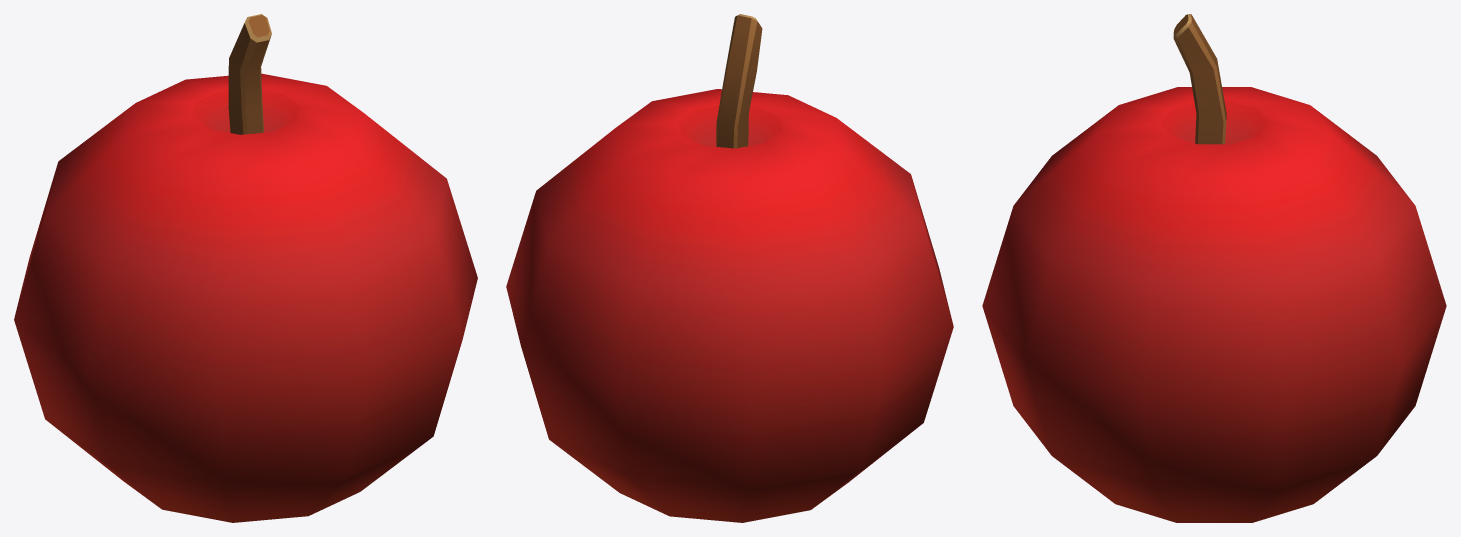
The model's file is Apple_1_A.glb.
The picture shows the model from 3 angles, left to right: view 1: azimuth 30°, elevation 25°; view 2: azimuth 150°, elevation 25°; view 3: azimuth 270°, elevation 25°; orthographic projection. The views are drawn at different scales.
Visible parts, largest first — view 1: Apple_1_A; view 2: Apple_1_A; view 3: Apple_1_A.
Part boxes in pixels (x1,y1,x2,y2): Apple_1_A: (14,14,477,522); Apple_1_A: (506,14,953,522); Apple_1_A: (982,14,1446,522).
Bounding box in the file's own units: 0.1278 × 0.1493 × 0.1344.
Materials: 2 (2 with a texture image).
